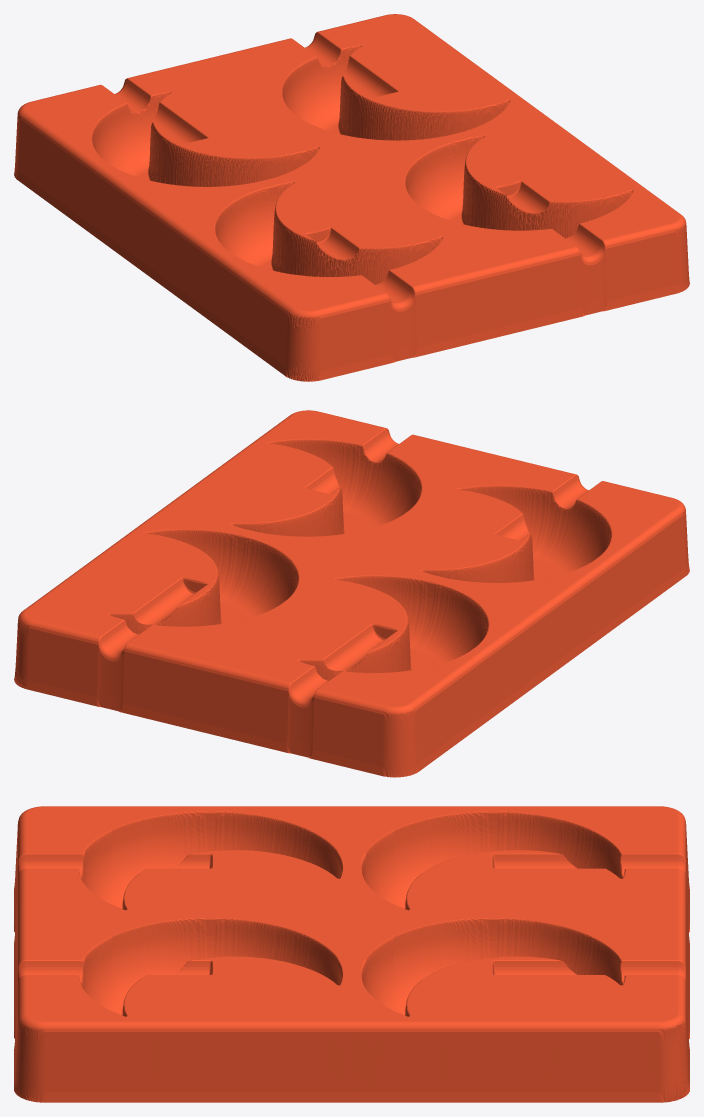
Rendered from mold.glb.
3 renders of one model, top to bottom at view 1: azimuth 30°, elevation 25°; view 2: azimuth 150°, elevation 25°; view 3: azimuth 270°, elevation 25°, orthographic. The views are drawn at different scales.
Parts seen in each view (by area): view 1: geometry_0; view 2: geometry_0; view 3: geometry_0.
Boxes of the visible parts, box(x1,y1,x2,y2) form: geometry_0: box(14, 14, 689, 381); geometry_0: box(14, 410, 689, 777); geometry_0: box(14, 806, 689, 1102).
Bounding box in the file's own units: 0.1548 × 0.0245 × 0.1968.
